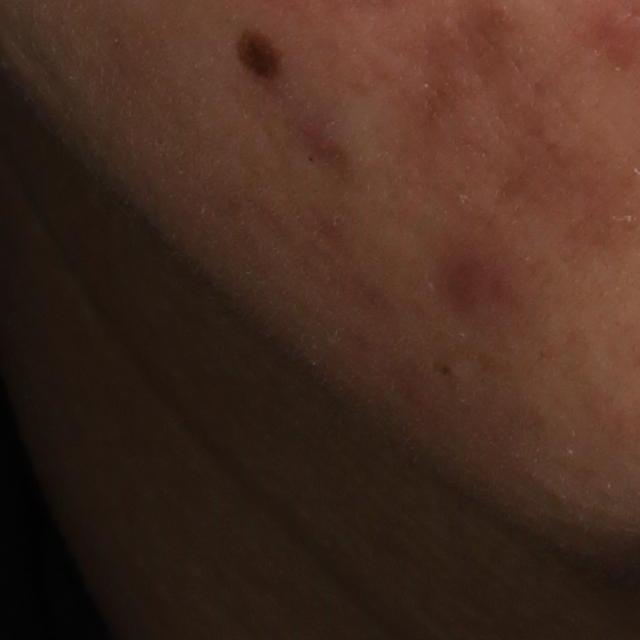nevus: (232, 27, 292, 86)
